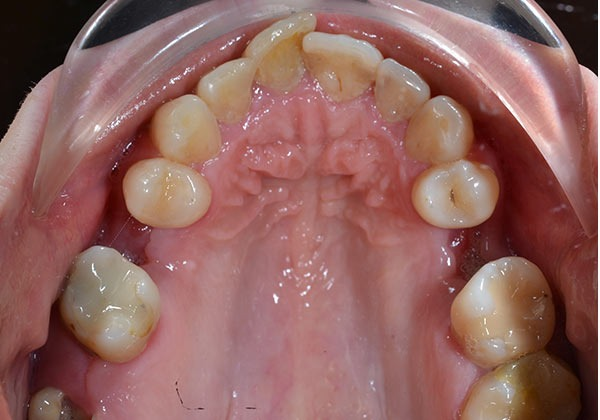UL1BC_healthy: (413, 163, 499, 230)
UL1M_healthy: (453, 256, 555, 356)
UL2M_healthy: (469, 357, 582, 420)
ULCI_healthy: (306, 30, 380, 103)
ULC_healthy: (403, 96, 475, 162)
ULLI_healthy: (378, 63, 426, 124)
UR1BC_healthy: (124, 161, 215, 226)
UR1M_healthy: (70, 251, 163, 356)
URCI_healthy: (248, 18, 308, 95)
URC_healthy: (157, 99, 224, 163)
URLI_healthy: (201, 59, 253, 121)
